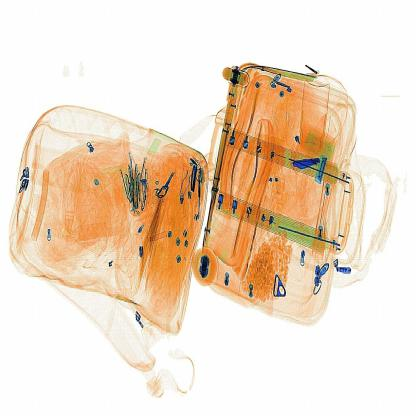knife: (293, 146, 324, 178)
